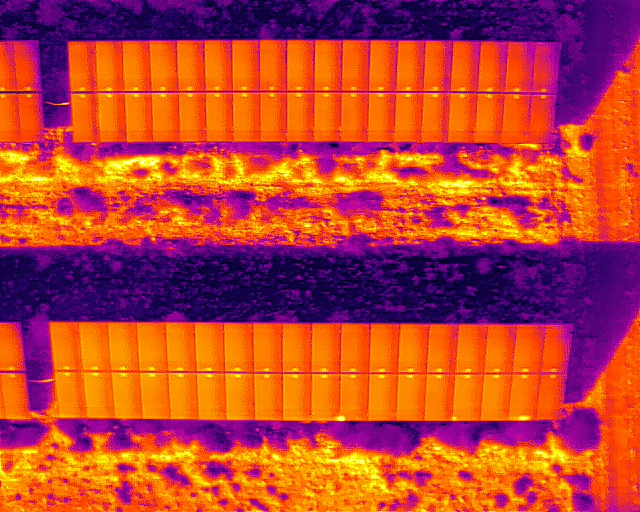photovoltaic_panels: (46, 320, 570, 425), (66, 39, 562, 143), (1, 40, 47, 146), (2, 320, 33, 419)
single_spot: (338, 372, 369, 421), (452, 372, 478, 421), (512, 374, 538, 420)
